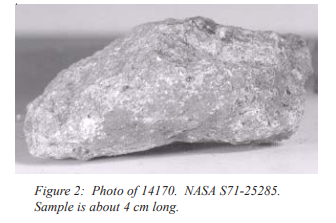Breccia: (20, 0, 315, 171)
